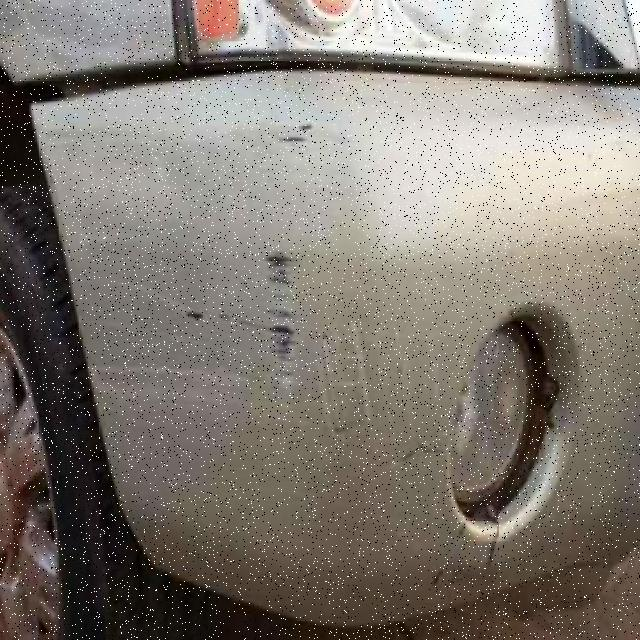damage: (264, 247, 299, 392), (429, 514, 471, 593), (387, 437, 447, 477), (276, 119, 318, 150), (485, 507, 502, 577), (183, 305, 208, 325)
